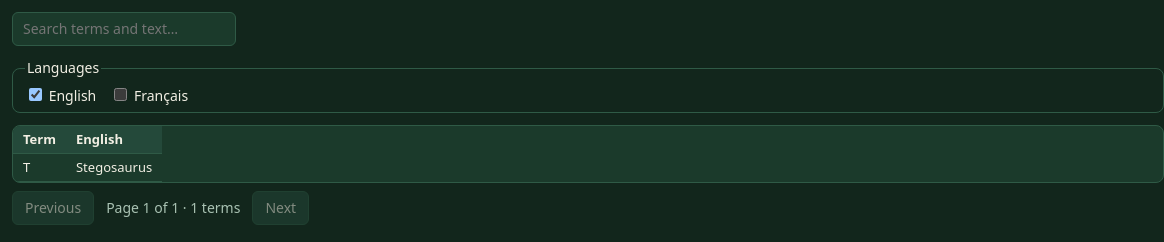
Test: LocalizationView › ignores answers to superseded searches
Expected: the text "Stegosaurus" is shown, x1=66 y1=153 x2=162 y2=181
In the search field named "Search localization": [124, 29] box x1=12 y1=12 x2=236 y2=46, type "old"
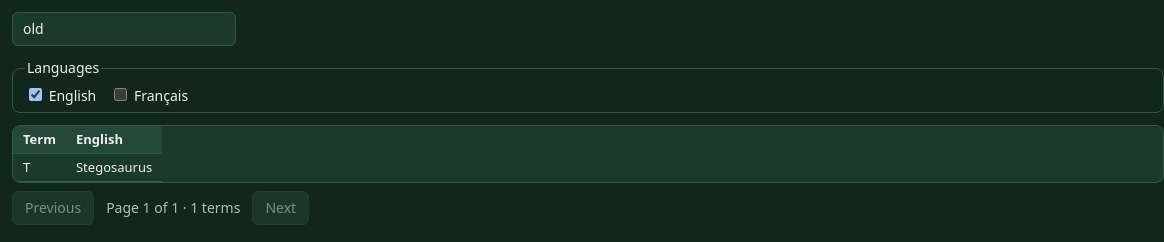
Replace the text in the search field named "Search localization" with "new": [124, 29] box x1=12 y1=12 x2=236 y2=46
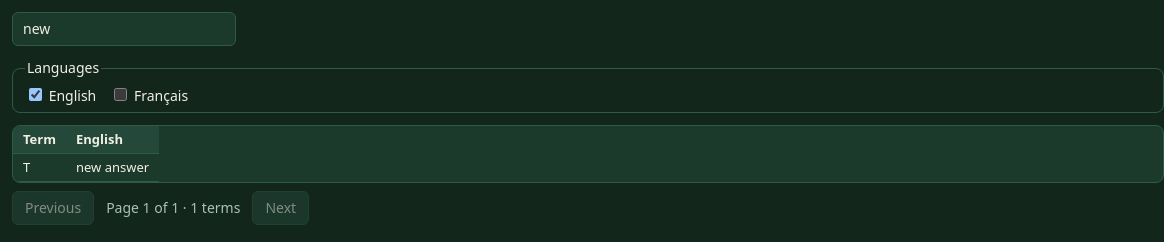
Now the text "new answer" is shown, box x1=66 y1=153 x2=159 y2=181
